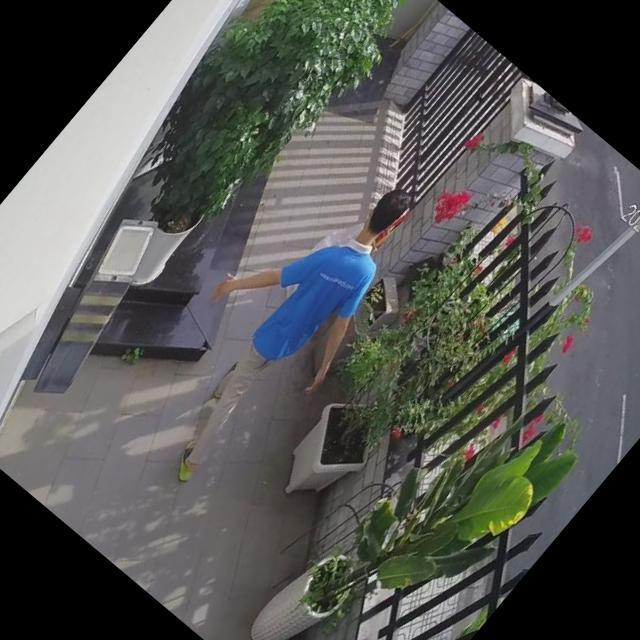person: (110, 136, 452, 506)
